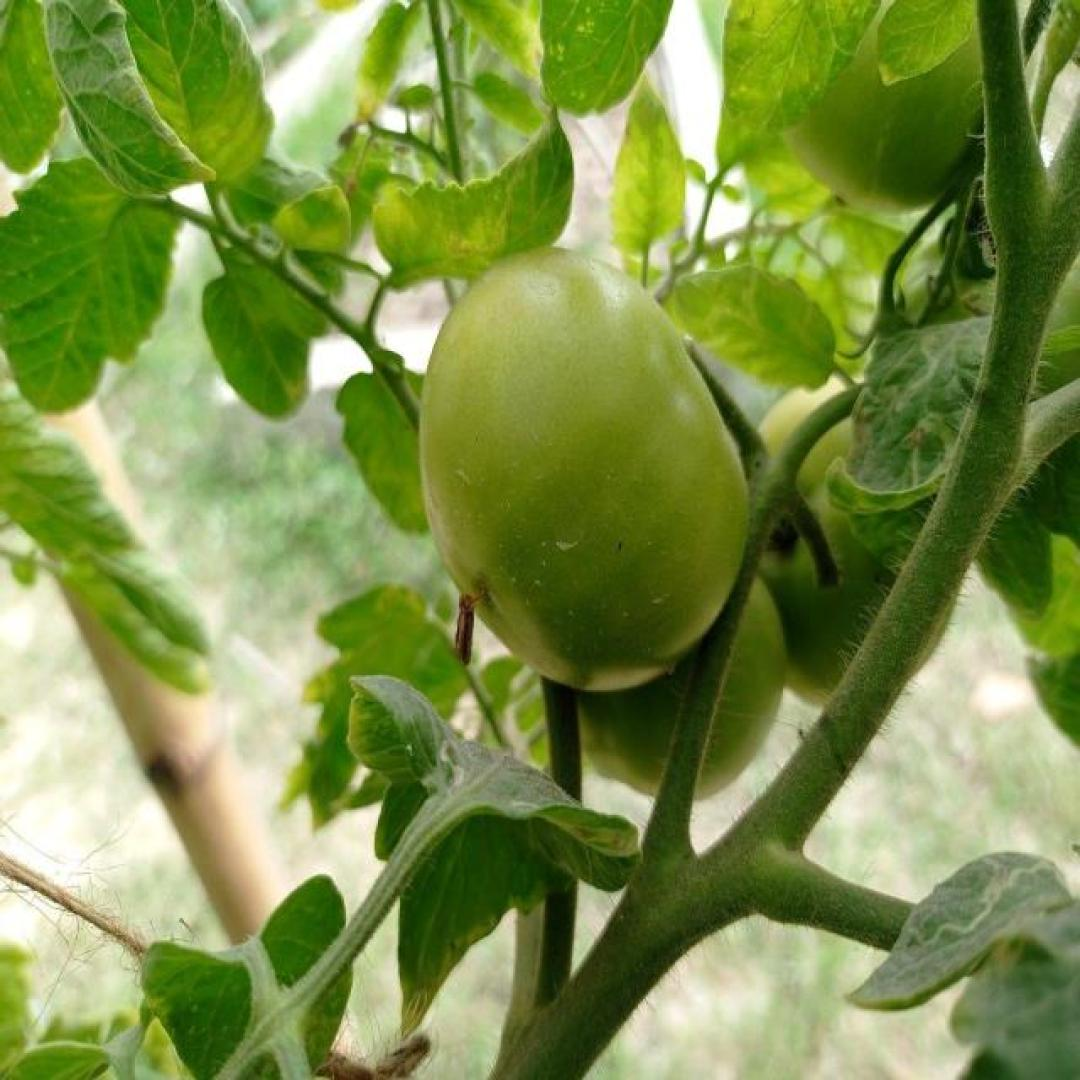mentah: (415, 244, 751, 694)
